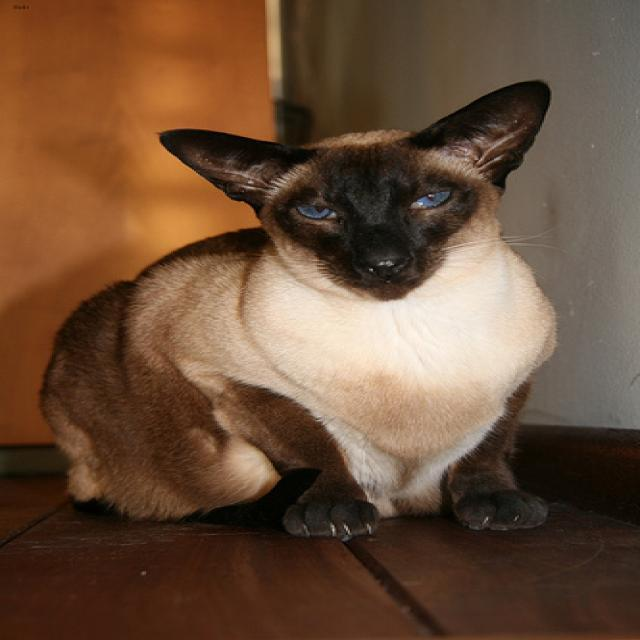Siamese: (152, 77, 560, 314)
